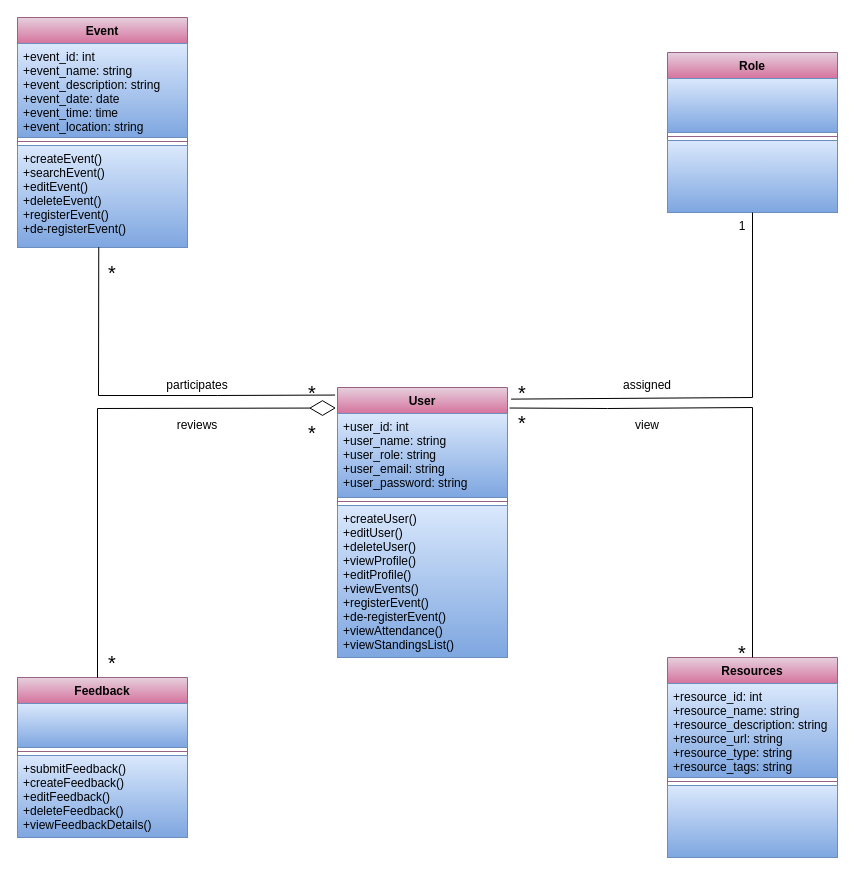
Image size: 855x878. Some labels were removed from this diagram. Here are the shapes that lost their labels. From the top down, the centre of each, then its label:
At point (752, 105): "+role_id: int +role_title: string +role_description: string".
At point (752, 176): "+createRole() +editRole() +deleteRole() +assignRole()".
At point (102, 725): "+user_id: int +feedback_description: string".
At point (752, 821): "+uploadResource() +editResource() +deleteResource() +viewResource()".
